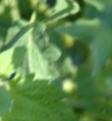Tomato leaf bacterial spot: (0, 63, 106, 121)
